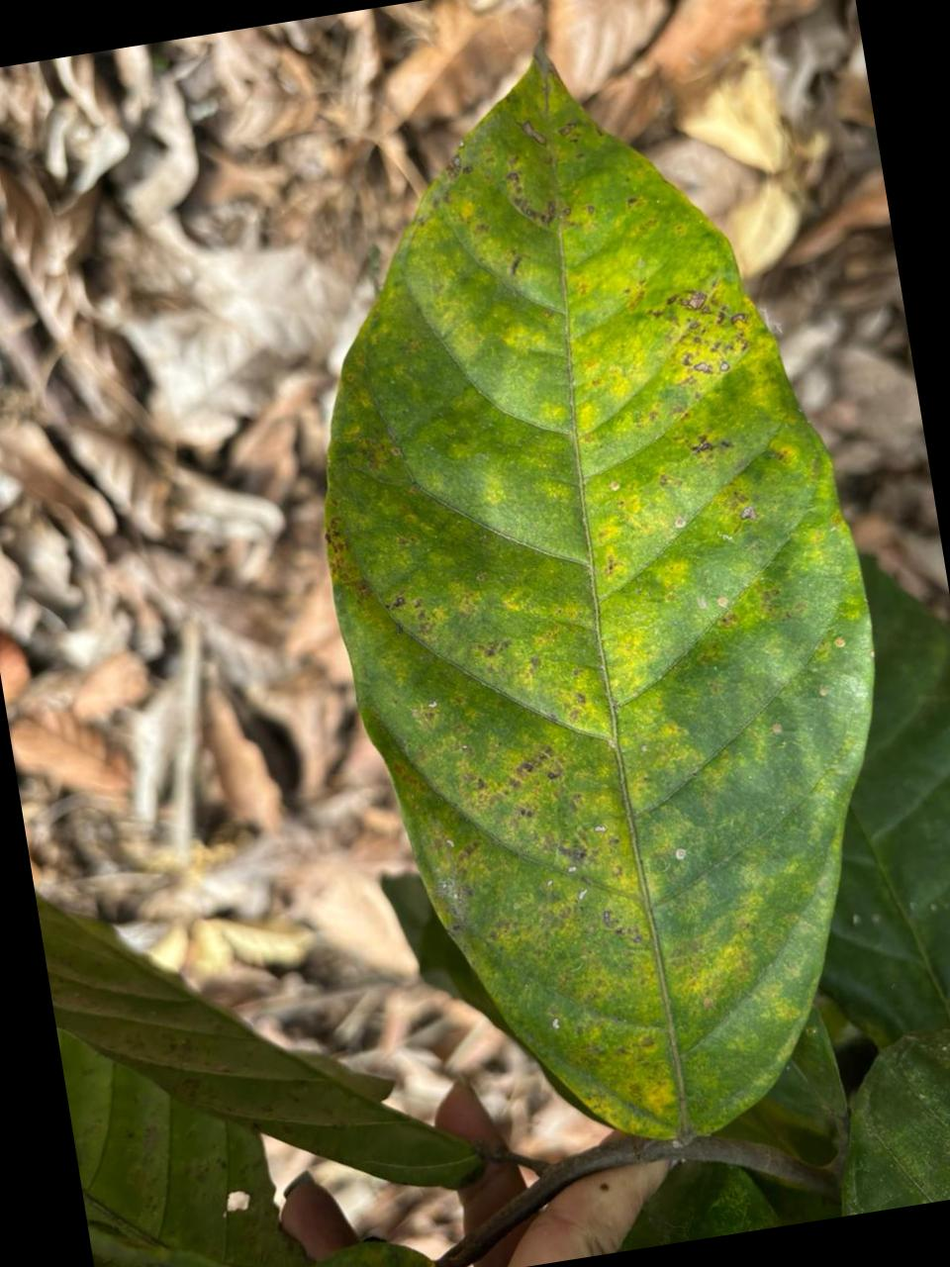Fosforo: (327, 54, 873, 1137)
